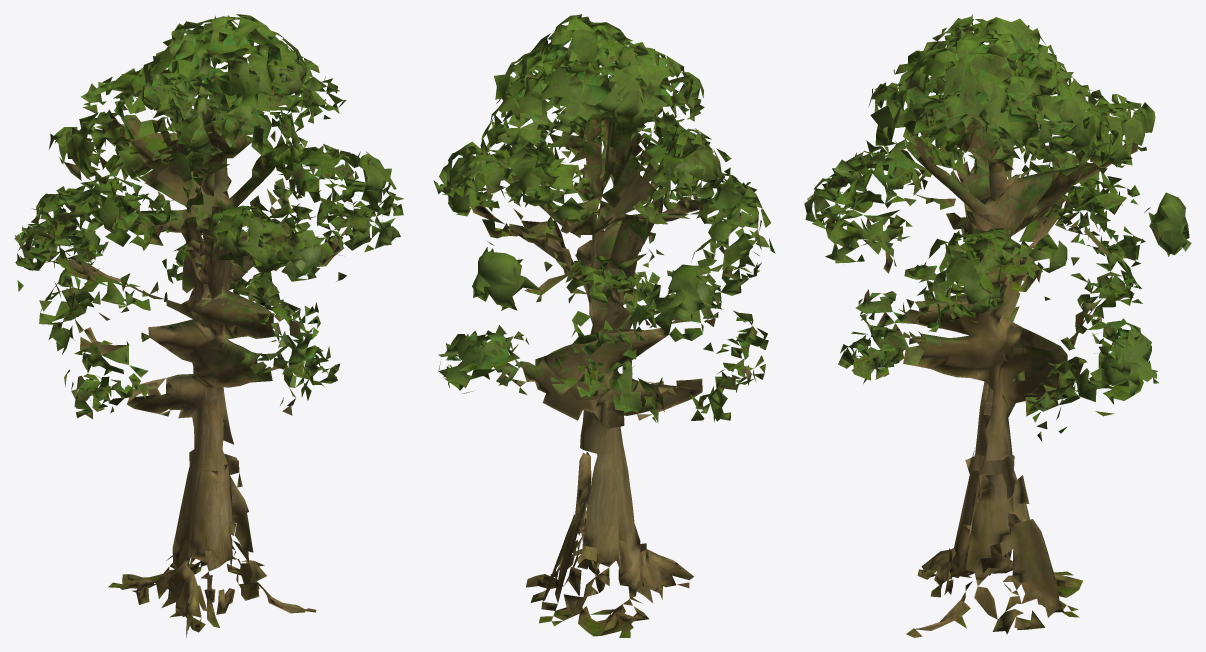
File: cc2d2731-7d66-4f91-a7e5-4ac3cca5ab9d.glb
3 views of the same model, side by side, from view 1: azimuth 30°, elevation 25°; view 2: azimuth 150°, elevation 25°; view 3: azimuth 270°, elevation 25° (orthographic). The views are drawn at different scales.
Bounding box in the file's own units: 1.25 × 1.99 × 1.18.
1 material, 1 textured.
